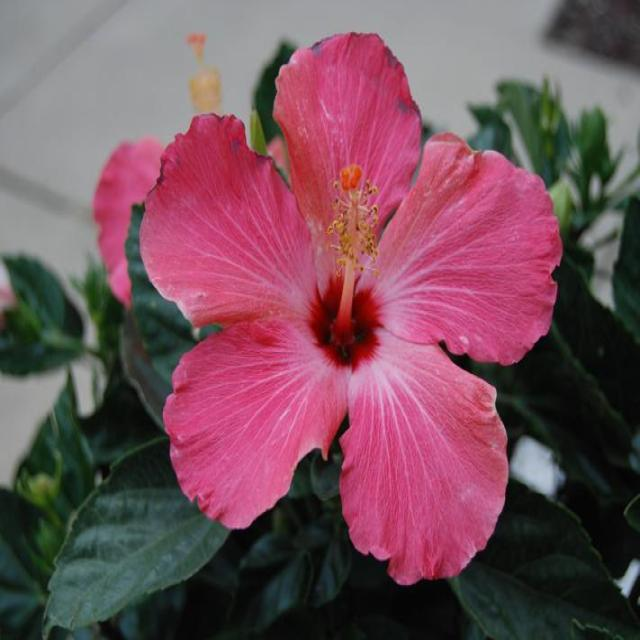hibiscus: (126, 0, 569, 599)
